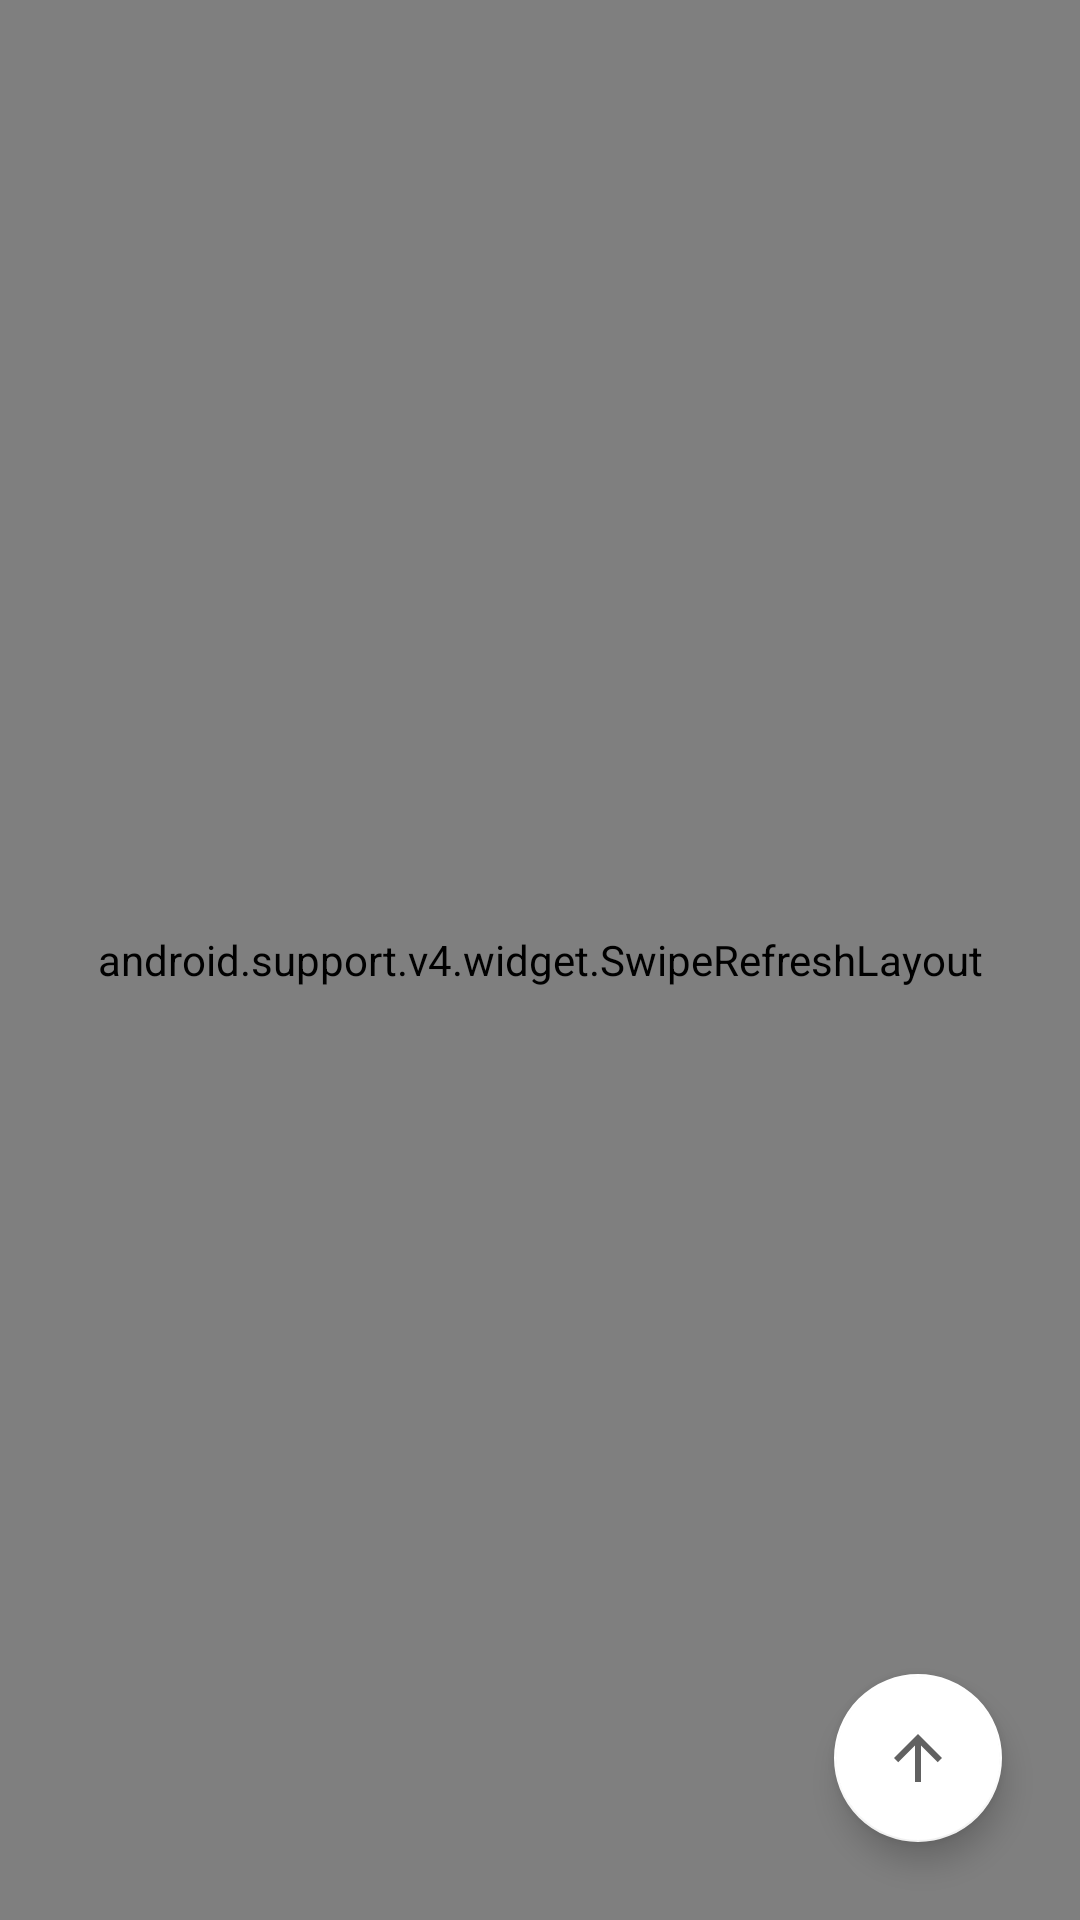

Icons on this 1080px x 1920px Android screen, each with the point to tap as [x,y]:
arrow upward: [918,1758]
